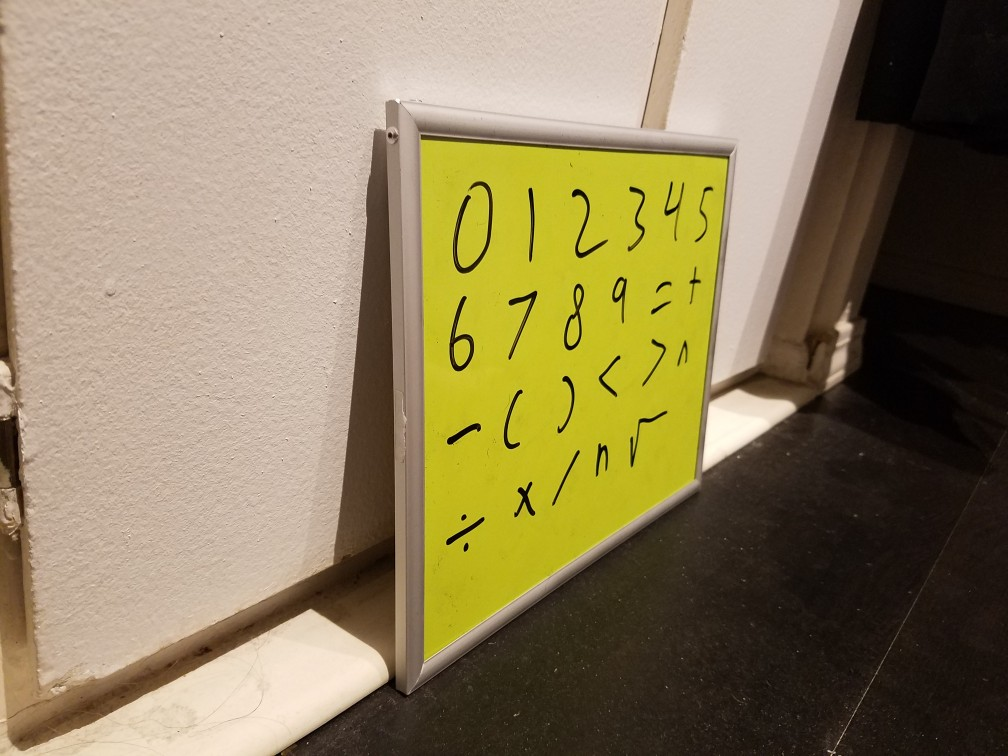(: (500, 387, 527, 454)
): (551, 373, 577, 438)
+: (683, 265, 706, 305)
-: (439, 415, 487, 454)
/: (550, 451, 583, 509)
0: (442, 170, 500, 279)
1: (516, 180, 544, 268)
2: (566, 180, 611, 259)
3: (623, 176, 647, 256)
4: (662, 170, 688, 242)
5: (694, 182, 713, 248)
6: (440, 288, 481, 381)
7: (503, 286, 541, 363)
8: (554, 280, 594, 357)
9: (604, 271, 634, 330)
<: (592, 353, 628, 409)
=: (647, 275, 677, 322)
>: (644, 336, 666, 393)
^: (673, 336, 695, 375)
div: (441, 500, 486, 560)
n: (591, 438, 612, 480)
sqrt: (624, 410, 670, 477)
x: (509, 473, 536, 527)
